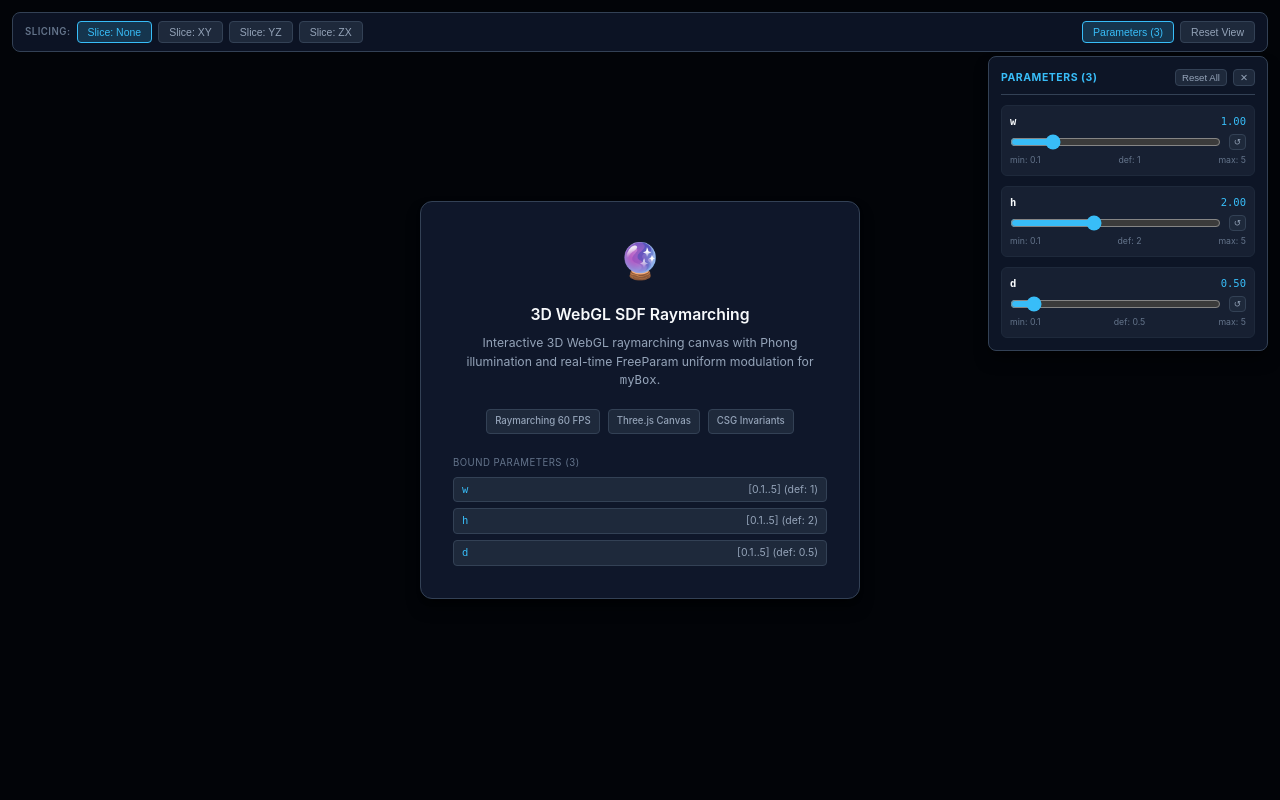
Test: SDFRaymarchWidget Component › toggles slicing planes and shows offset slider when plane is active
This screenshot has width=1280, height=800.
Note: Click Slice: XY
Click the button with test id "slice-xy-btn" at (190, 32), box [158,21,223,43]
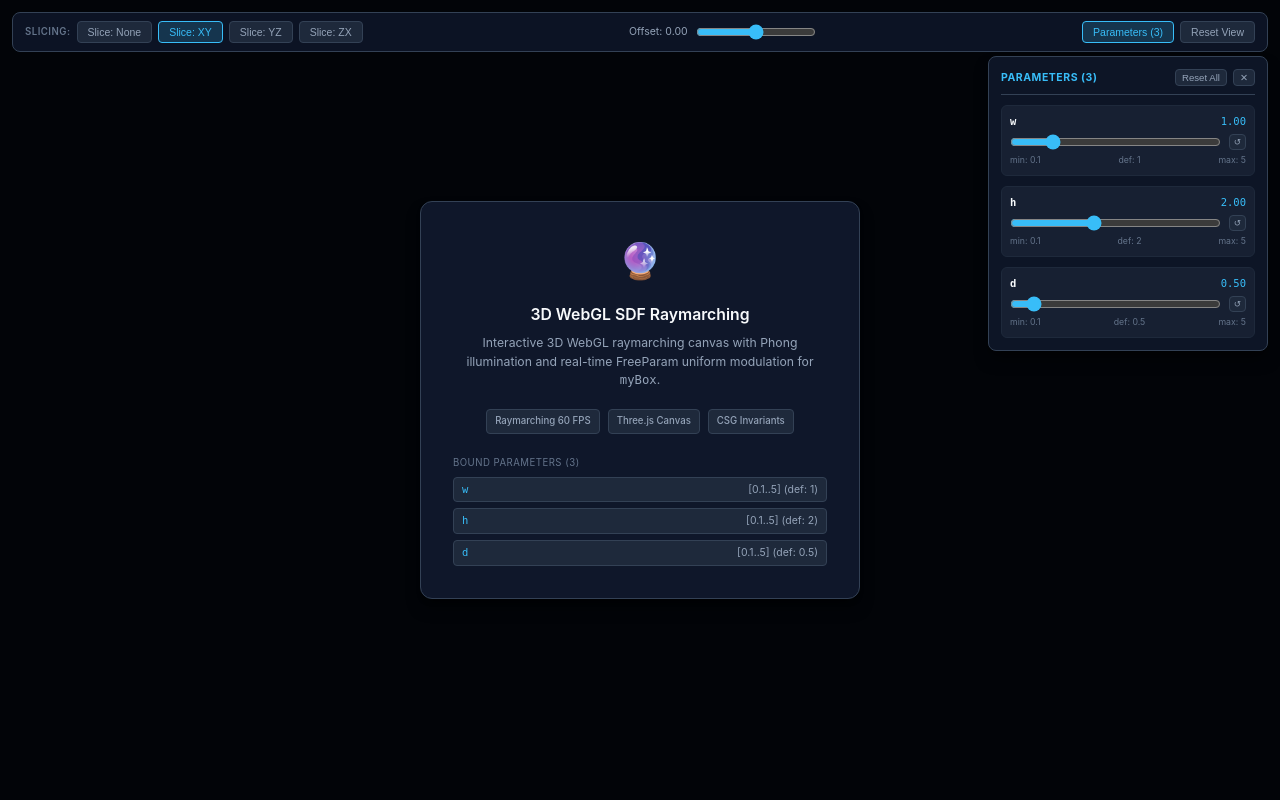
Expected: the slider with test id "slice-offset-slider" is shown
Note: Adjust slider
Set the slider with test id "slice-offset-slider" to "1.25" at (769, 32), box [696,24,816,40]
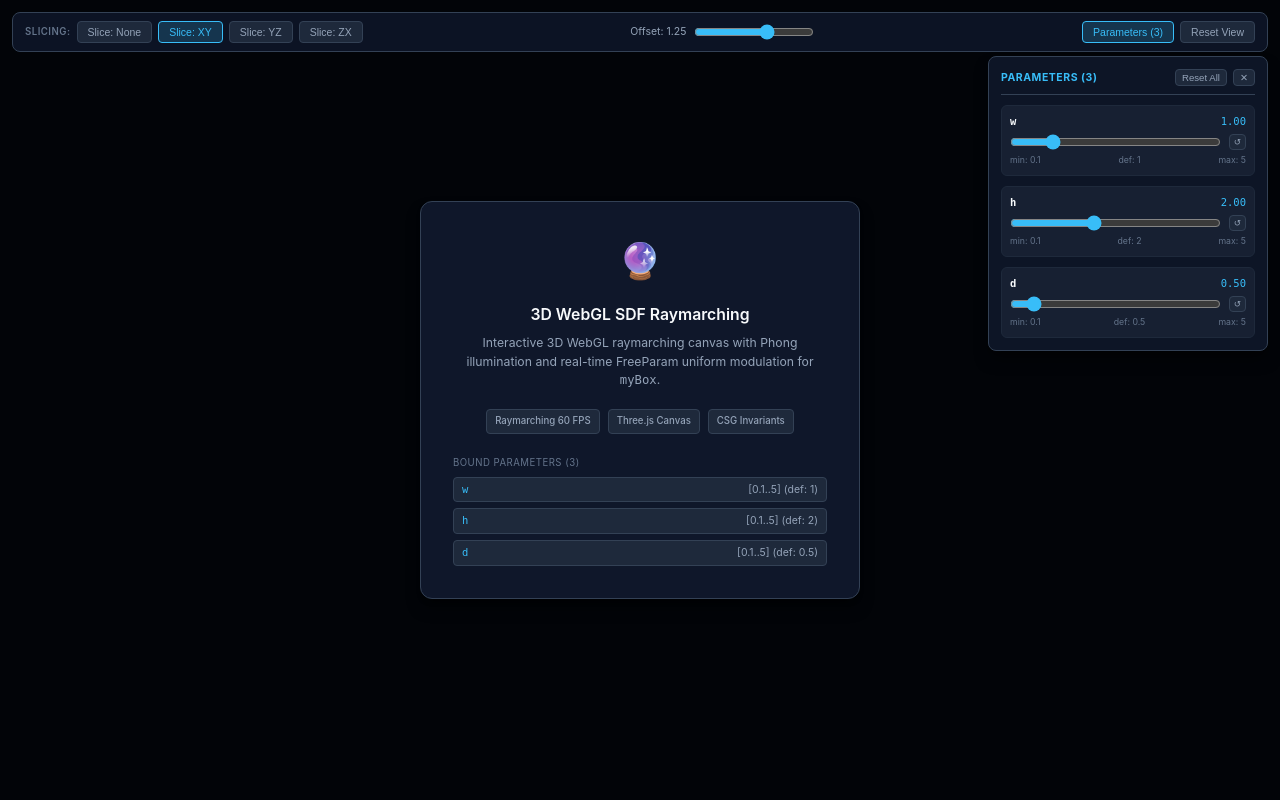
Expected: the text "Offset: 1.25" is shown, [630,24,686,40]
Note: Click Slice: YZ
Click the button with test id "slice-yz-btn" at (261, 32), box [229,21,293,43]
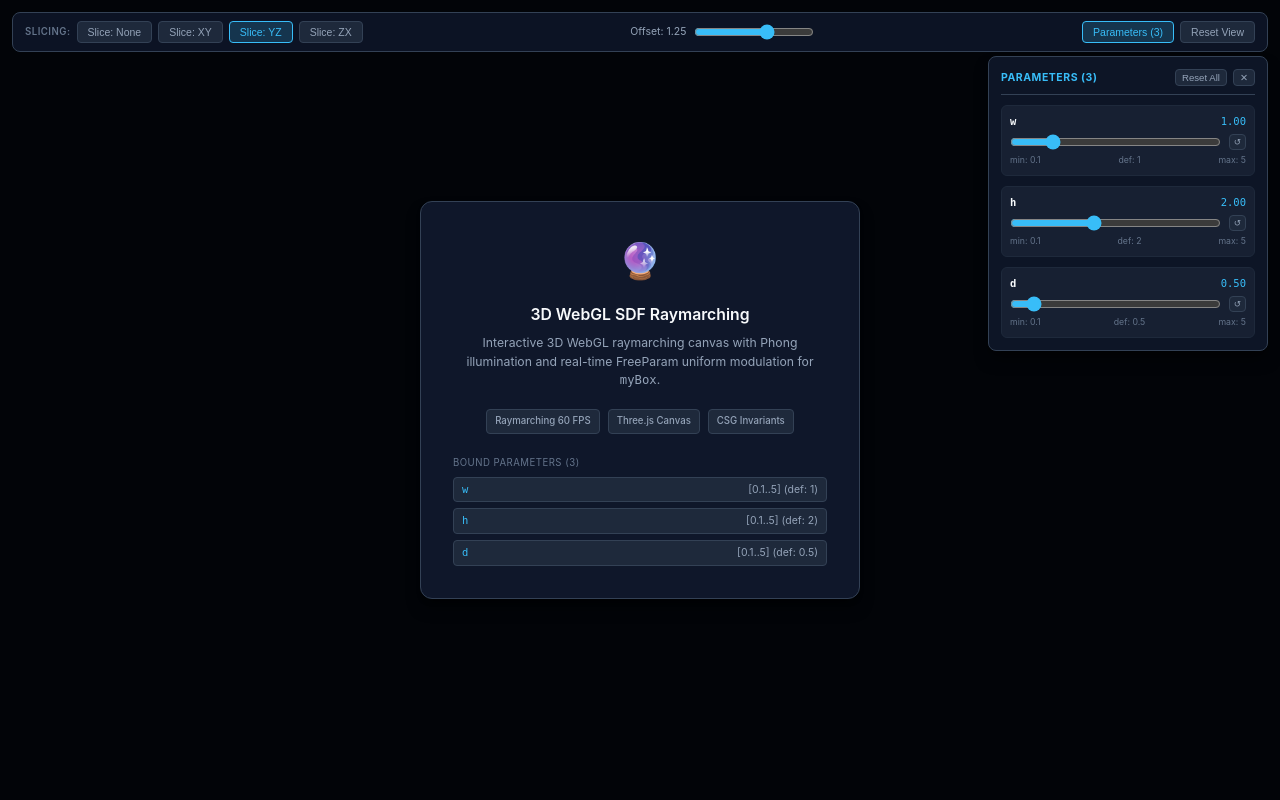
Expected: the button with test id "slice-yz-btn" has class "active", [229,21,293,43]
Expected: the button with test id "slice-xy-btn" does not have class "active", [158,21,223,43]
Note: Click Slice: None to disable slicing
Click the button with test id "slice-none-btn" at (114, 32), box [76,21,152,43]
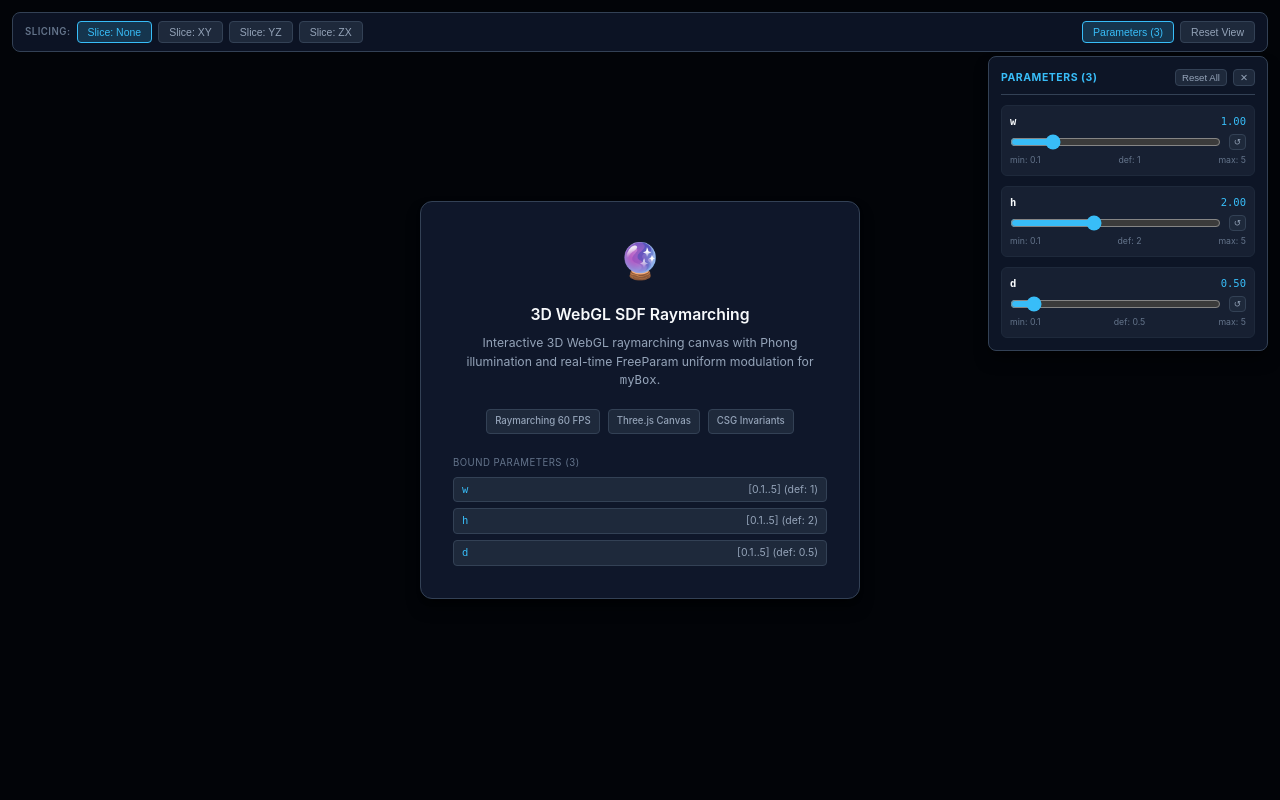
Expected: the slider with test id "slice-offset-slider" is gone
